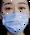with_mask: (2, 1, 30, 35)
